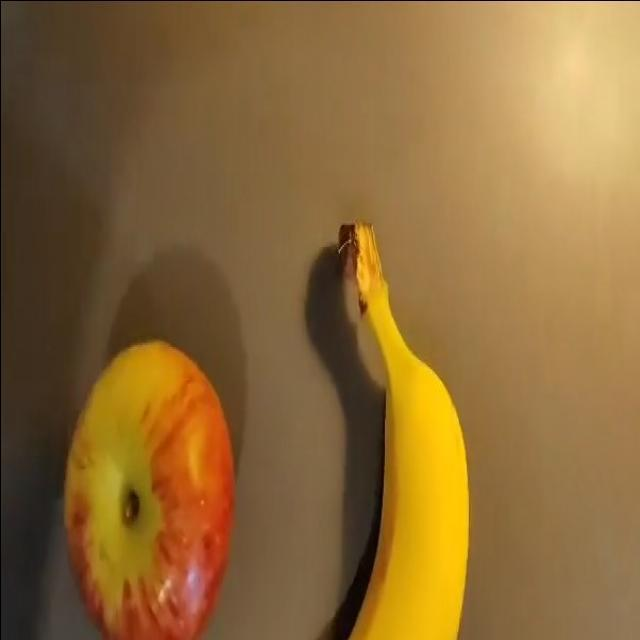Apple: (62, 338, 236, 639)
Banana: (328, 218, 470, 639)
